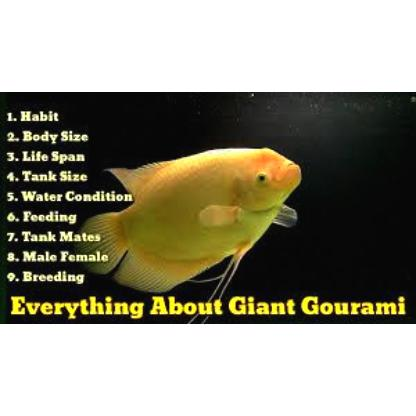gurame: (83, 142, 301, 288)
